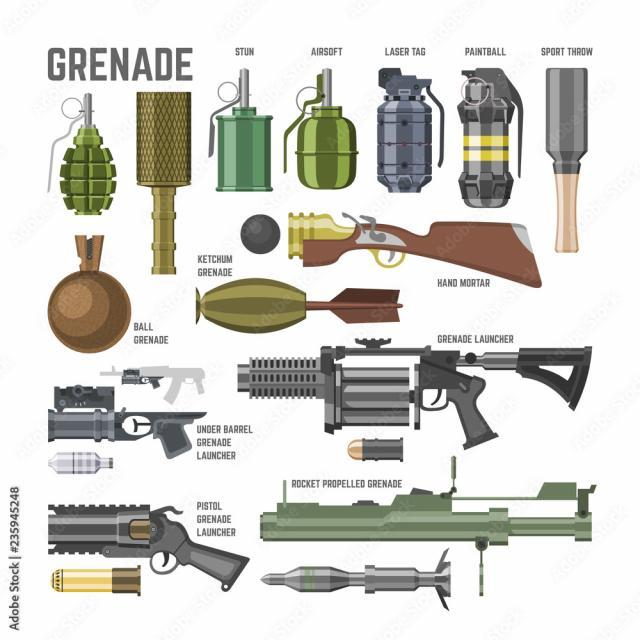bomb: (44, 228, 133, 353), (38, 90, 120, 222), (371, 66, 445, 201), (204, 62, 276, 199), (289, 65, 365, 194), (458, 67, 522, 213)
rocket launcher: (254, 331, 602, 466), (259, 472, 618, 570), (58, 493, 244, 570)
